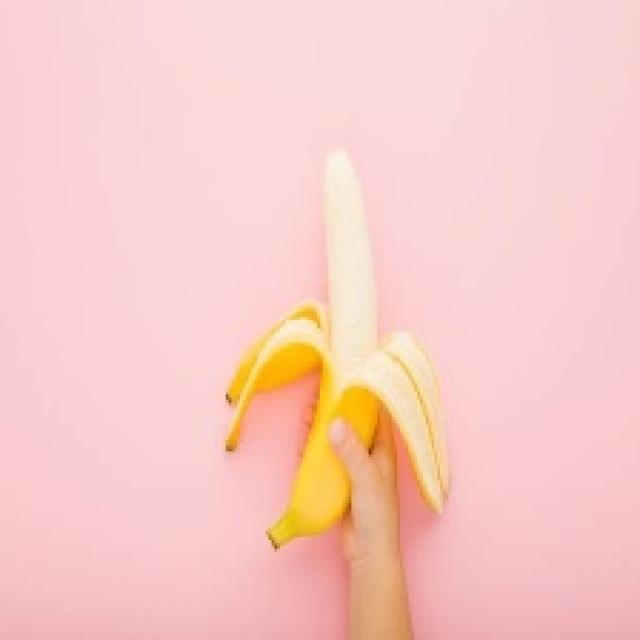Banana: (223, 146, 448, 548)
